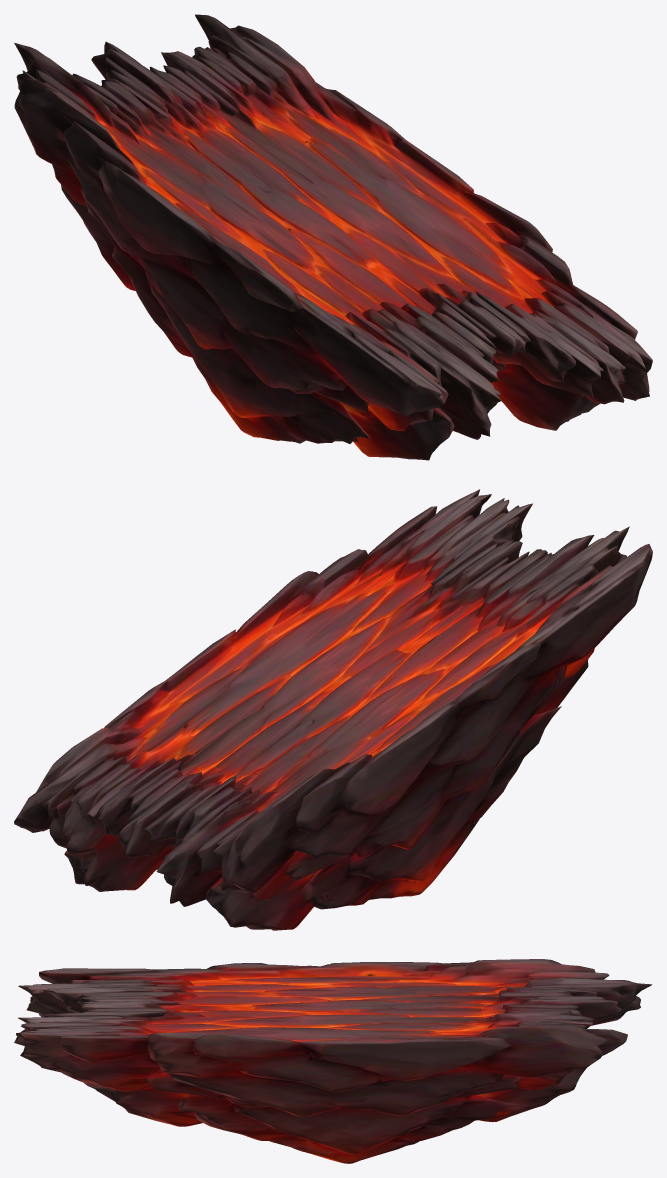
The model's file is R3_Island_Bridge.fbx.
The picture shows the model from 3 angles, top to bottom: view 1: azimuth 30°, elevation 25°; view 2: azimuth 150°, elevation 25°; view 3: azimuth 270°, elevation 25°; orthographic projection. The views are drawn at different scales.
Parts seen in each view (by area): view 1: R3_Island_Bridge; view 2: R3_Island_Bridge; view 3: R3_Island_Bridge.
Boxes of the visible parts, x1,y1,x2,y2 form: R3_Island_Bridge: [14, 14, 652, 460]; R3_Island_Bridge: [14, 489, 652, 930]; R3_Island_Bridge: [14, 959, 652, 1163].
Bounding box in the file's own units: 420 × 350 × 1400.
Materials: 1 (1 with a texture image).
